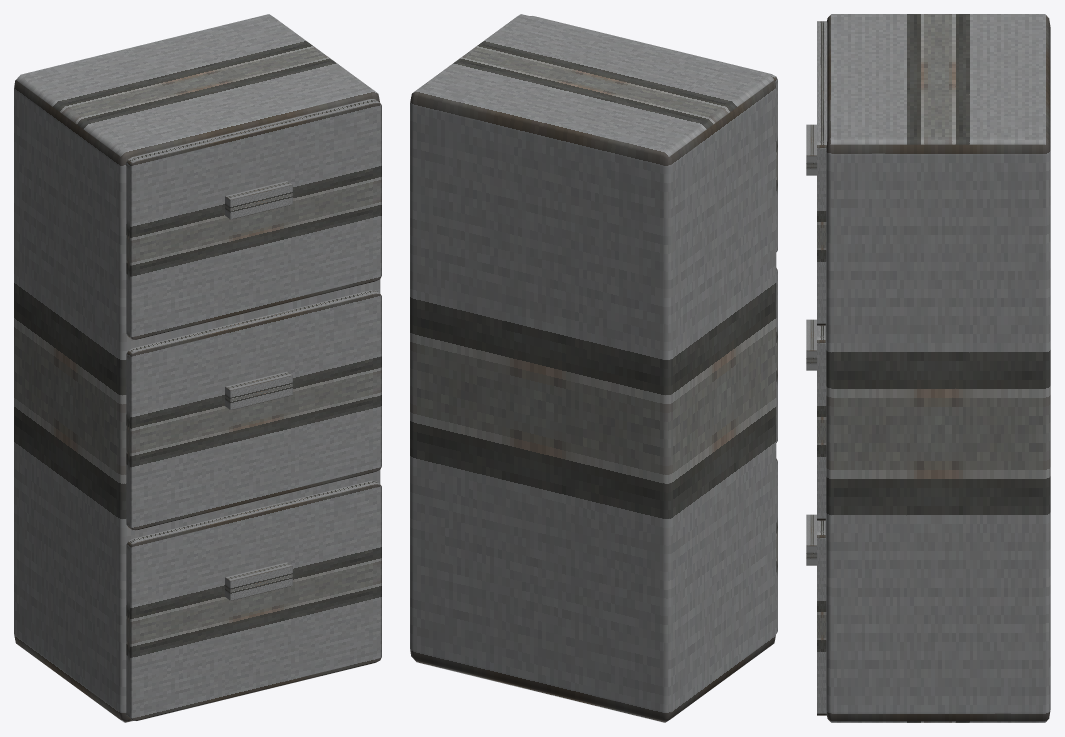
The model's file is drying-cabinet.glb.
3 views of the same model, side by side, from view 1: azimuth 30°, elevation 25°; view 2: azimuth 150°, elevation 25°; view 3: azimuth 270°, elevation 25° (orthographic). The views are drawn at different scales.
Parts seen in each view (by area): view 1: front (×3), case, pull (×3); view 2: case, front; view 3: case, front (×3), pull (×3).
Boxes of the visible parts, x1,y1,x2,y2 form: front (×3): [126, 99, 381, 720]; case: [14, 14, 380, 722]; pull (×3): [225, 181, 292, 600]; case: [410, 14, 776, 722]; front: [530, 16, 777, 251]; case: [825, 14, 1050, 722]; front (×3): [817, 21, 827, 715]; pull (×3): [806, 124, 816, 565].
Bounding box in the file's own units: 0.91 × 1.9 × 0.72.
Materials: 1 (1 with a texture image).
